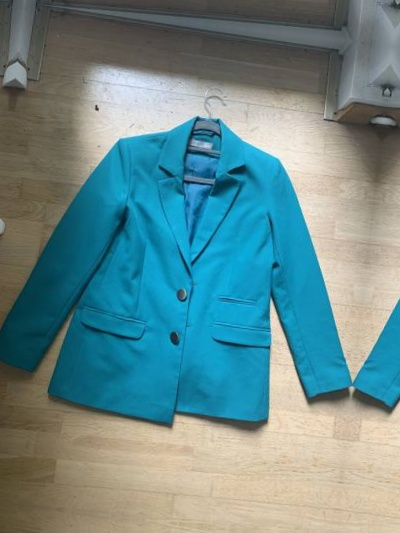Blazer: (0, 90, 373, 466), (353, 134, 400, 511), (0, 46, 8, 423)
